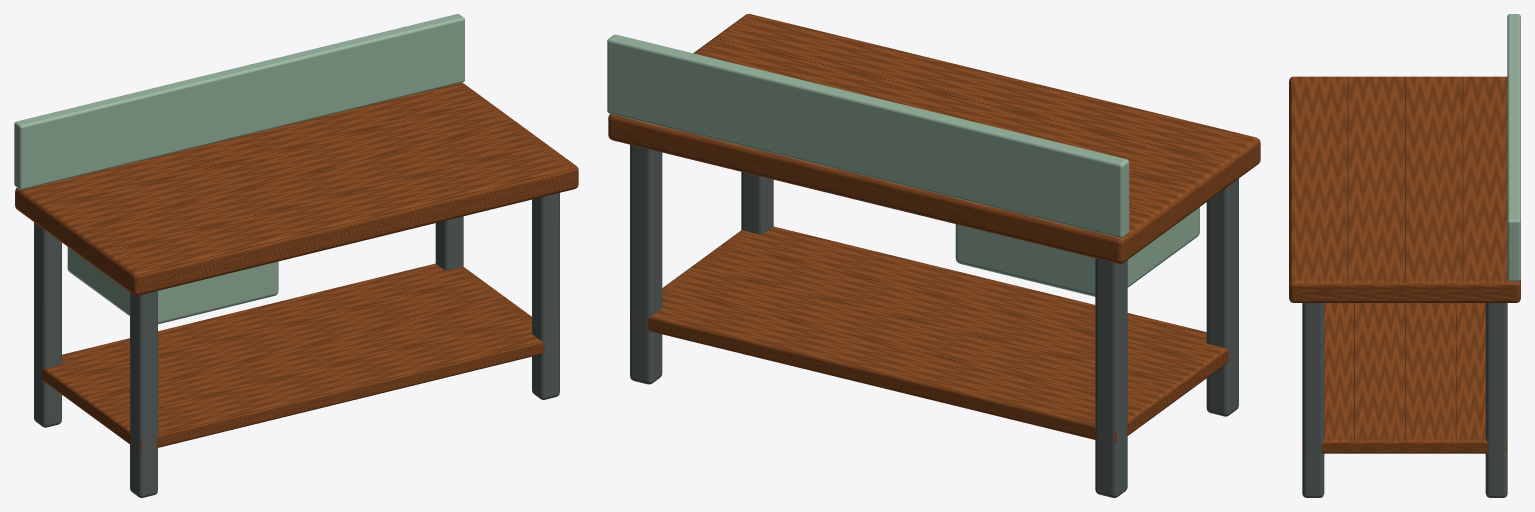
Rendered from ceramics-pottery-studio-glazing-workbench-dd488880__29489.glb.
The picture shows the model from 3 angles, left to right: view 1: azimuth 30°, elevation 25°; view 2: azimuth 150°, elevation 25°; view 3: azimuth 270°, elevation 25°; orthographic projection. The views are drawn at different scales.
Visible parts, largest first — view 1: glazing-workbench; view 2: glazing-workbench; view 3: glazing-workbench.
Part boxes in pixels (bbox=[...]): glazing-workbench: bbox=[14, 14, 578, 497]; glazing-workbench: bbox=[607, 14, 1260, 497]; glazing-workbench: bbox=[1289, 14, 1520, 497].
Size of the model in its own units: 1.8 by 1.15 by 0.85.
3 materials, 1 textured.
